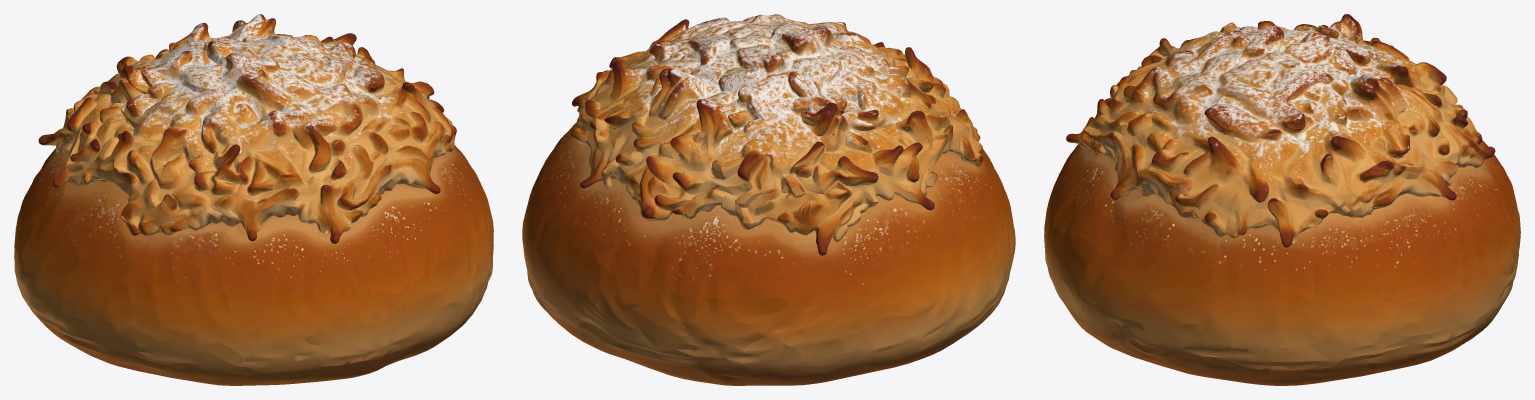
The model's file is pao.glb.
3 renders of one model, left to right at view 1: azimuth 30°, elevation 25°; view 2: azimuth 150°, elevation 25°; view 3: azimuth 270°, elevation 25°, orthographic. The views are drawn at different scales.
Visible parts, largest first — view 1: Mesh_0; view 2: Mesh_0; view 3: Mesh_0.
Boxes of the visible parts, box(x1,y1,x2,y2) form: Mesh_0: box(14, 14, 493, 385); Mesh_0: box(522, 14, 1015, 385); Mesh_0: box(1044, 14, 1520, 385).
Bounding box in the file's own units: 1.9 × 1.16 × 1.86.
Materials: 1 (1 with a texture image).
